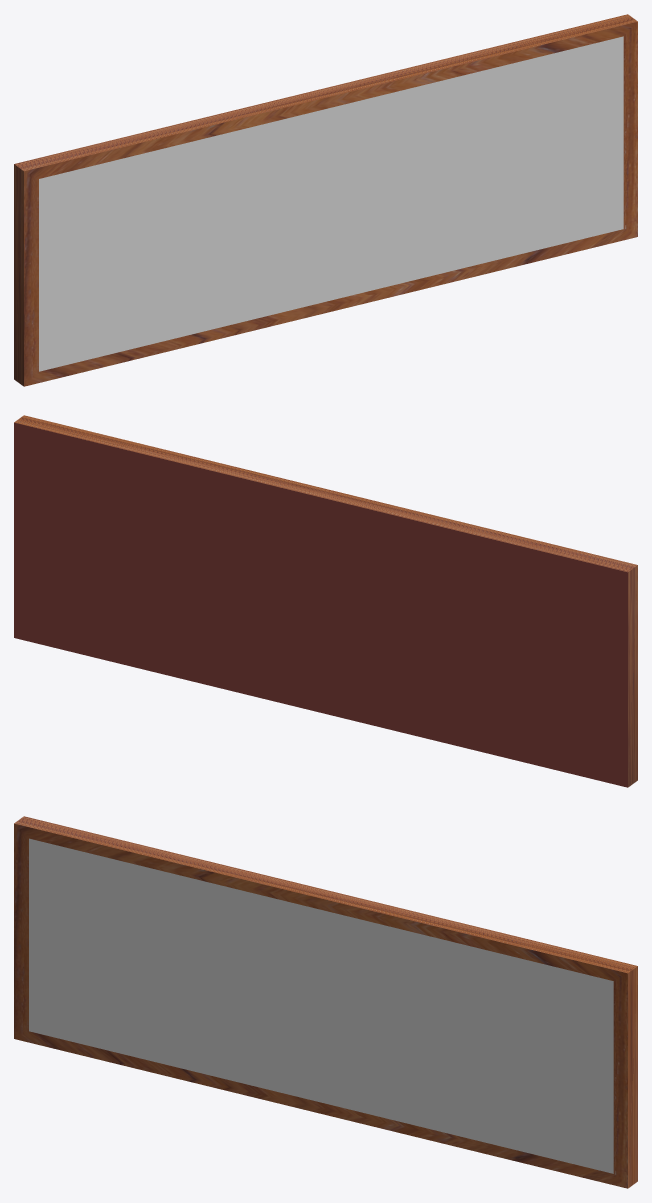
File: frame.fbx
3 views of the same model, one above another, from view 1: azimuth 30°, elevation 25°; view 2: azimuth 150°, elevation 25°; view 3: azimuth 330°, elevation 25° (orthographic).
Parts seen in each view (by area): view 1: Cube; view 2: Cube; view 3: Cube.
Part boxes in pixels (x1,y1,x2,y2): Cube: [14, 14, 637, 386]; Cube: [14, 415, 637, 787]; Cube: [14, 816, 637, 1188].
Size of the model in its own units: 1408 by 472 by 39.81.
3 materials, 1 textured.
